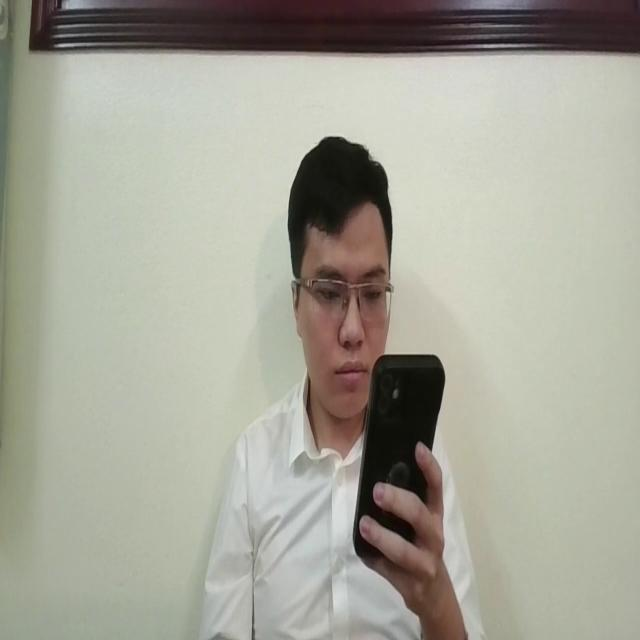phone: (348, 348, 446, 563)
student: (194, 135, 480, 640)
